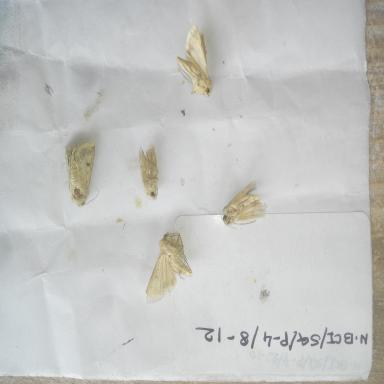abw: (138, 222, 197, 310), (172, 22, 216, 102), (216, 178, 272, 238), (60, 134, 102, 212), (130, 137, 166, 207)
